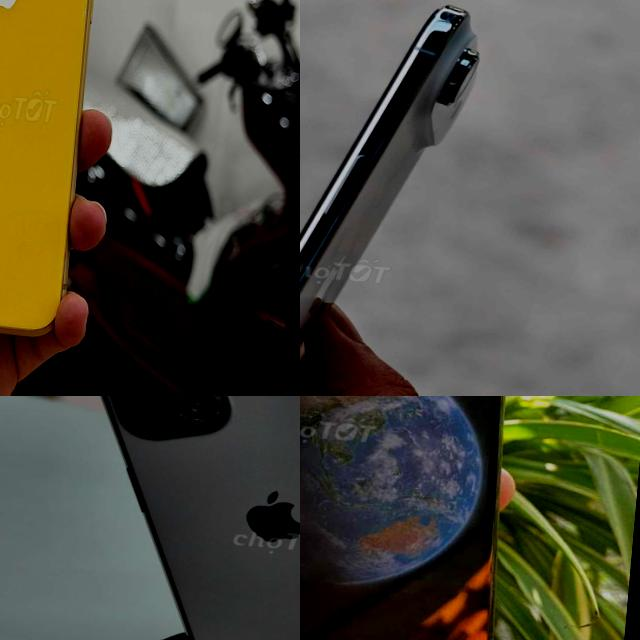scratch: (101, 396, 226, 427)
